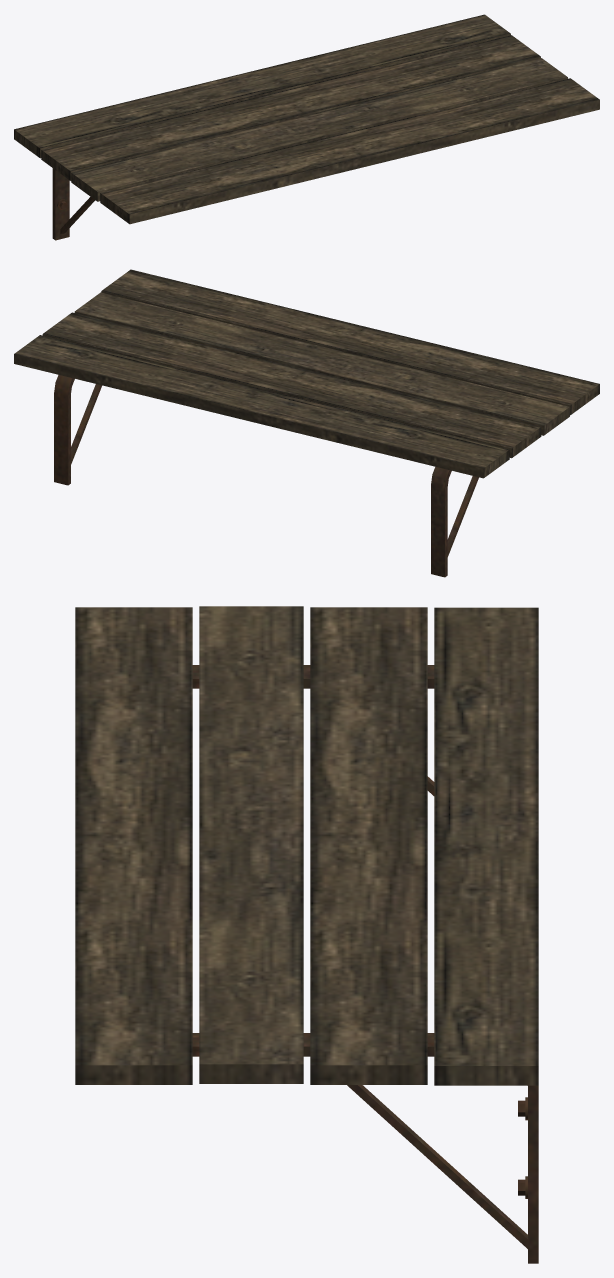
The model's file is hanging_shelf_mx_3.obj.
3 renders of one model, top to bottom at view 1: azimuth 30°, elevation 25°; view 2: azimuth 150°, elevation 25°; view 3: azimuth 270°, elevation 25°, orthographic. The views are drawn at different scales.
Visible parts, largest first — view 1: hanging_shelf_mx_3; view 2: hanging_shelf_mx_3; view 3: hanging_shelf_mx_3.
Boxes of the visible parts, box(x1,y1,x2,y2) form: hanging_shelf_mx_3: box(14, 14, 599, 240); hanging_shelf_mx_3: box(14, 269, 599, 577); hanging_shelf_mx_3: box(75, 606, 538, 1263).
Bounding box in the file's own units: 1 × 0.24 × 0.426.
